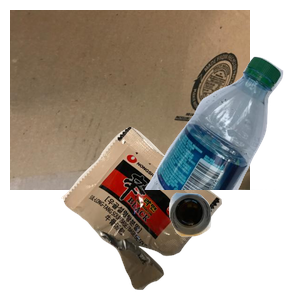cardboard: (10, 10, 250, 190)
glass: (166, 190, 300, 300)
plastic: (142, 54, 300, 234)
trash: (59, 124, 273, 300)
